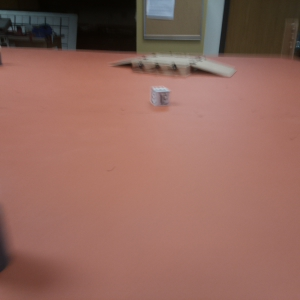blockE: (150, 86, 170, 107)
corner: (281, 16, 299, 63)
obstacle: (1, 208, 12, 272), (1, 49, 6, 68)
side: (132, 60, 190, 73)
slope: (191, 59, 238, 82), (110, 56, 135, 70)
